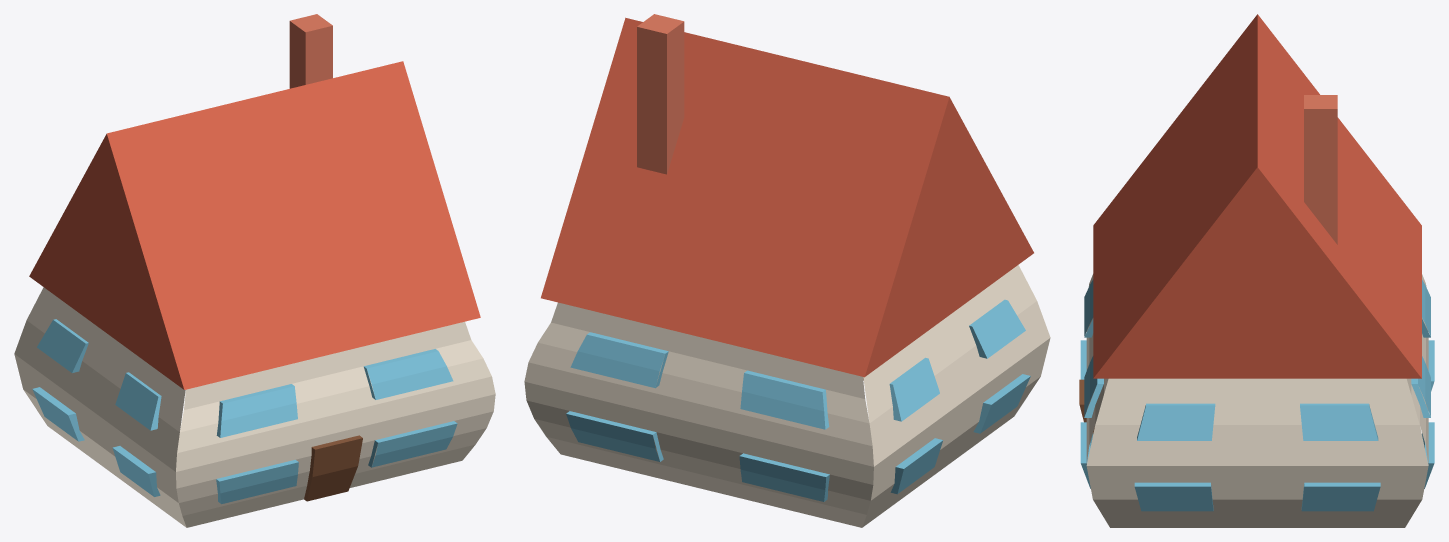
The model's file is house.glb.
3 views of the same model, side by side, from view 1: azimuth 30°, elevation 25°; view 2: azimuth 150°, elevation 25°; view 3: azimuth 270°, elevation 25° (orthographic). The views are drawn at different scales.
Visible parts, largest first — view 1: house_roof_red, house_wall_cream, house_window, house_brick, house_door; view 2: house_roof_red, house_wall_cream, house_window, house_brick; view 3: house_roof_red, house_wall_cream, house_window, house_brick.
Part boxes in pixels (x1,y1,x2,y2): house_roof_red: (29,61,480,389); house_wall_cream: (14,287,495,527); house_window: (32,319,457,504); house_brick: (289,14,332,88); house_door: (304,435,362,501); house_roof_red: (541,17,1033,377); house_wall_cream: (524,265,1050,527); house_window: (566,299,1030,501); house_brick: (637,14,684,174); house_roof_red: (1093,14,1421,378); house_wall_cream: (1086,274,1428,527); house_window: (1080,279,1434,511); house_brick: (1304,95,1337,244).
Size of the model in its own units: 9.93 by 10.88 by 8.77.
